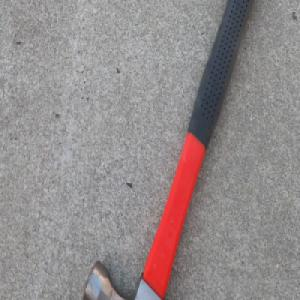Hammer: (83, 0, 256, 300)
